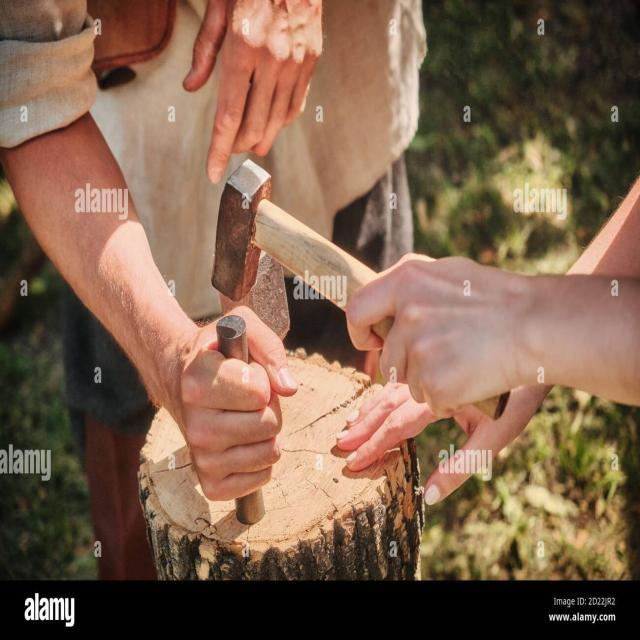hammer: (200, 153, 512, 424)
